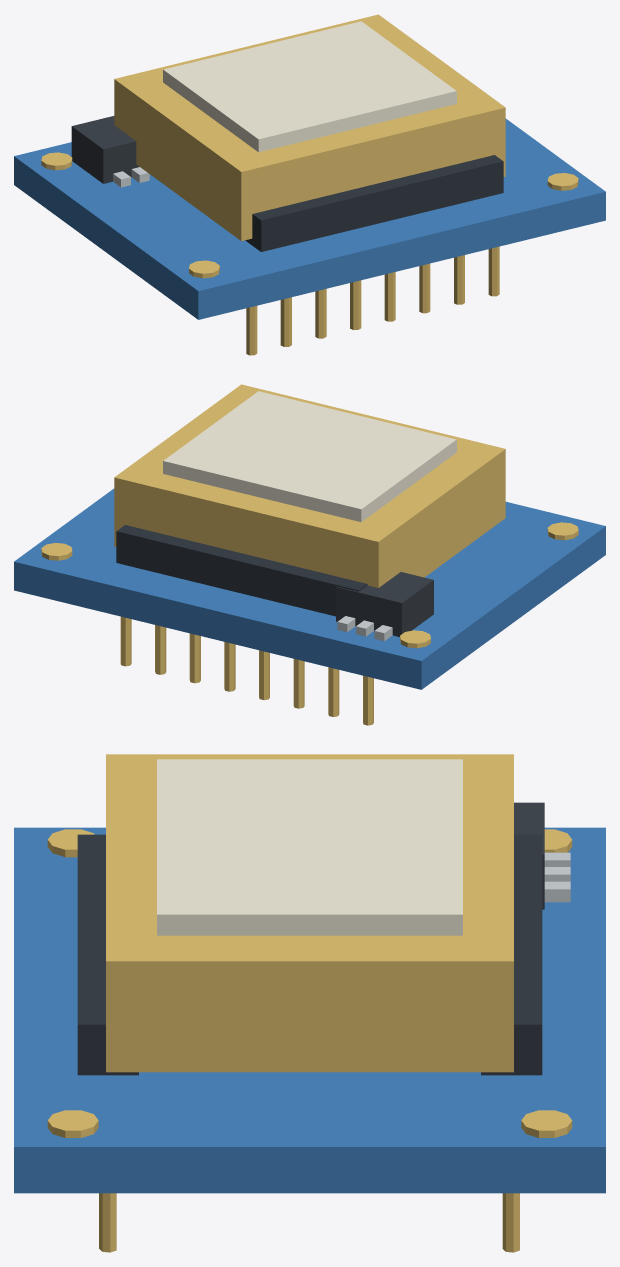
The model's file is product-13.glb.
3 renders of one model, top to bottom at view 1: azimuth 30°, elevation 25°; view 2: azimuth 150°, elevation 25°; view 3: azimuth 270°, elevation 25°, orthographic. The views are drawn at different scales.
Visible parts, largest first — view 1: product-13; view 2: product-13; view 3: product-13.
Part boxes in pixels (left/top/right/bottom): product-13: left=14, top=14, right=605, bottom=355; product-13: left=14, top=384, right=605, bottom=725; product-13: left=14, top=754, right=605, bottom=1252.
Bounding box in the file's own units: 0.74 × 0.3425 × 0.58.
